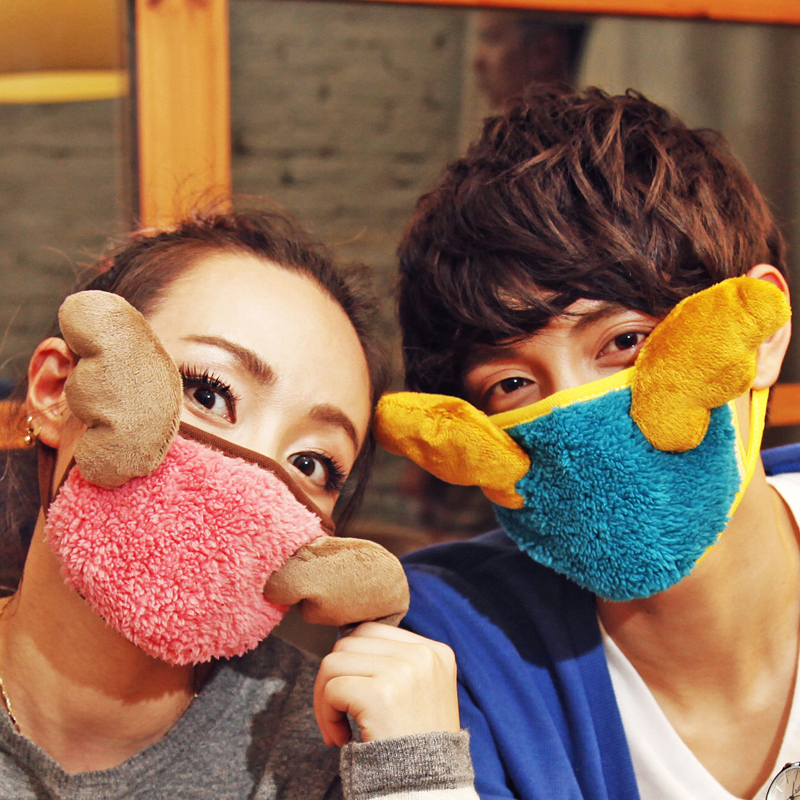face_mask: (84, 267, 364, 641), (461, 234, 731, 565), (467, 4, 535, 105)
